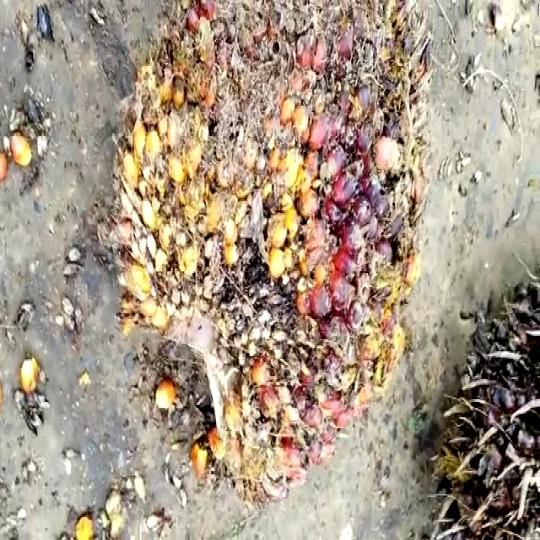masak: (112, 0, 431, 483)
